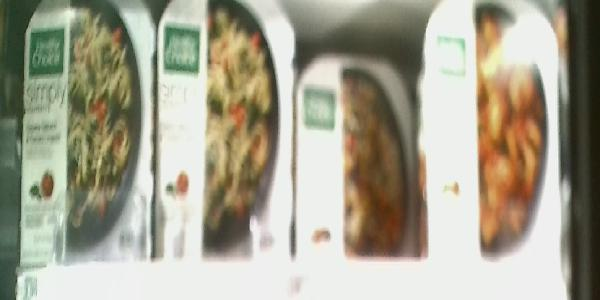pizza1: (422, 1, 562, 261), (157, 1, 295, 261), (21, 1, 154, 263), (291, 53, 420, 255)
